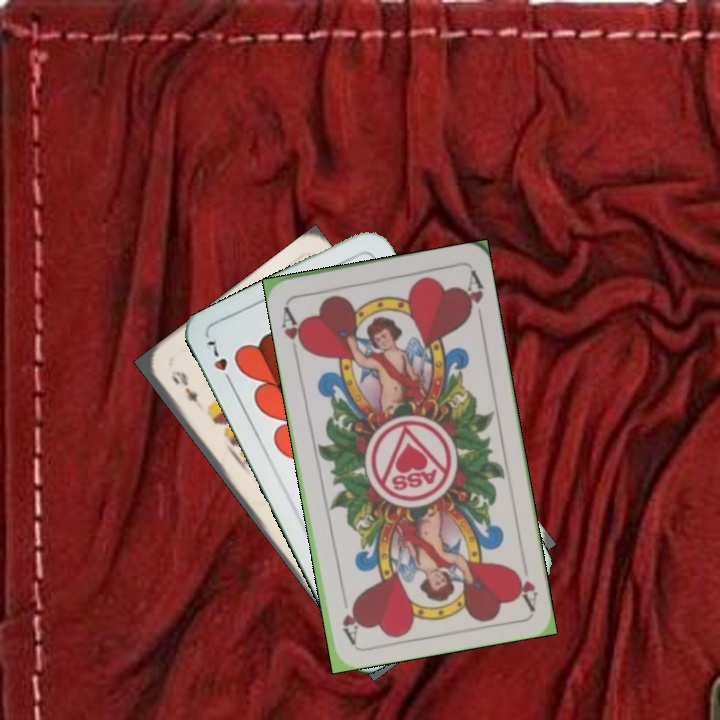E9: (167, 366, 201, 405)
H7: (202, 334, 236, 389)
HA: (277, 300, 309, 359), (510, 552, 541, 612)
